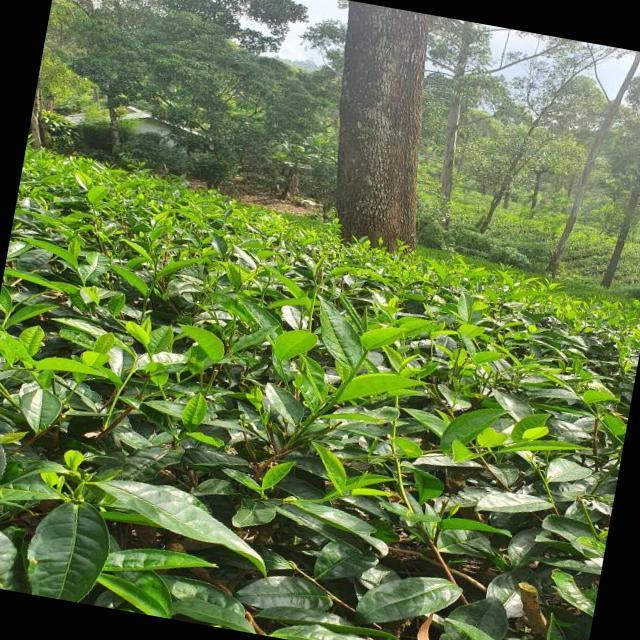Stem: (364, 350, 368, 354), (154, 263, 157, 266), (132, 369, 135, 371)
